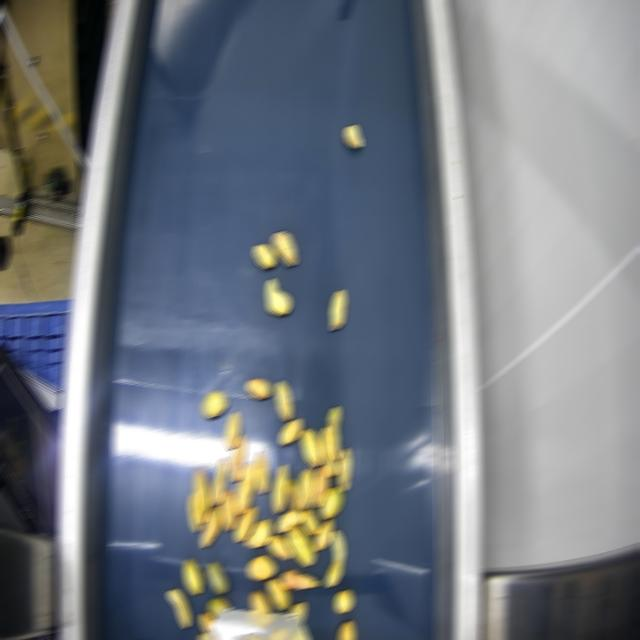Baby Potato: (286, 525, 313, 566), (234, 462, 255, 514), (326, 530, 343, 587), (167, 589, 190, 628), (200, 506, 221, 547), (271, 232, 296, 266), (266, 279, 289, 315), (194, 468, 209, 523), (209, 457, 226, 505), (300, 429, 321, 466), (320, 426, 335, 477), (182, 558, 202, 595), (281, 569, 318, 589), (234, 507, 255, 542), (319, 488, 342, 519), (246, 520, 271, 548), (230, 436, 245, 481), (247, 555, 274, 580), (206, 561, 227, 593), (267, 578, 288, 610), (201, 391, 226, 417), (313, 465, 328, 507), (221, 488, 236, 530), (273, 464, 286, 512), (330, 289, 345, 330), (298, 468, 313, 509), (276, 509, 301, 533), (313, 520, 332, 551), (276, 381, 291, 420), (328, 407, 339, 459), (280, 418, 301, 445), (337, 448, 350, 491), (268, 535, 291, 559), (255, 452, 268, 494), (253, 244, 274, 268), (247, 378, 270, 399), (225, 411, 238, 448), (285, 478, 300, 509), (301, 509, 318, 535), (207, 597, 228, 618), (188, 492, 199, 532), (250, 591, 269, 613), (335, 590, 352, 613), (344, 125, 361, 148), (290, 602, 305, 623), (199, 612, 214, 631), (338, 620, 353, 639), (198, 633, 205, 639)
